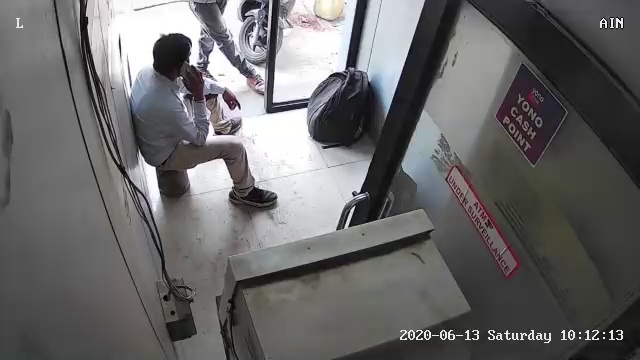open: (111, 7, 382, 182)
